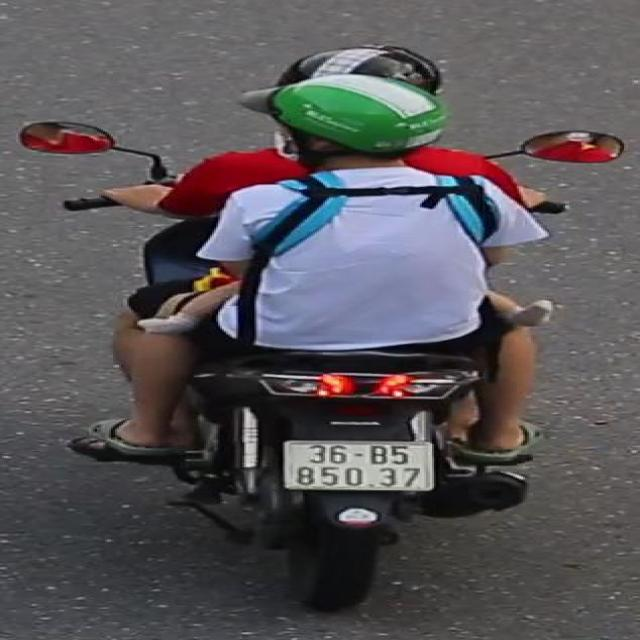LP: (275, 433, 448, 496)
helmet: (228, 76, 466, 198), (258, 32, 460, 101)
